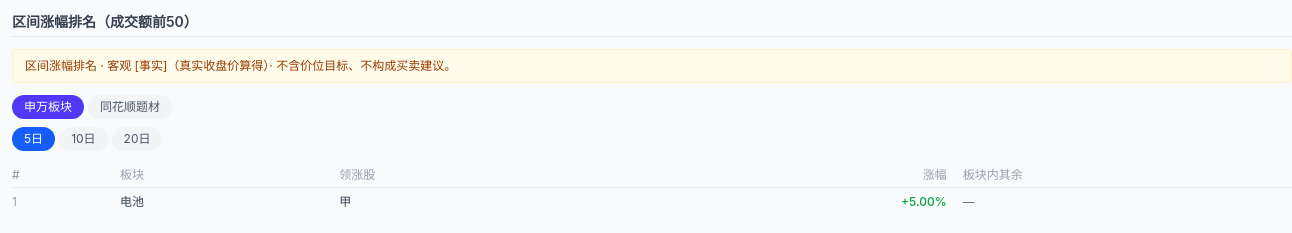
Scenario: SectorGainRanking › 题材维度无 concept_rankings（旧记录）→ 题材空态
expect the text "电池" is shown: met, box [120,188,339,216]
Click the tab "同花顺题材" at (130, 107), box [88,95,172,119]
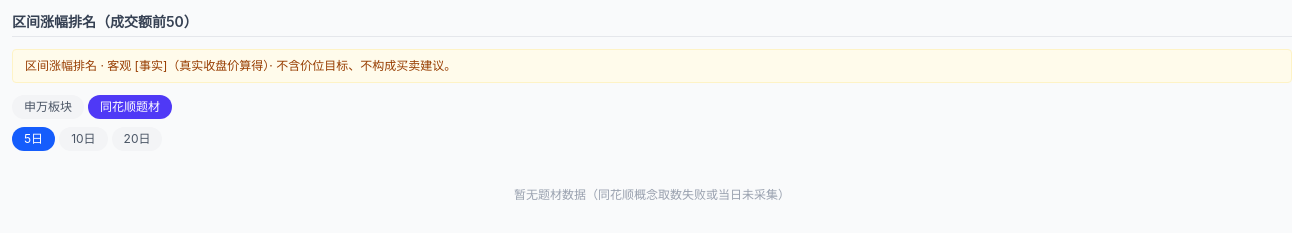
expect the text "暂无题材数据（同花顺概念取数失败或当日未采集）" is shown: met, box [514,187,790,202]
